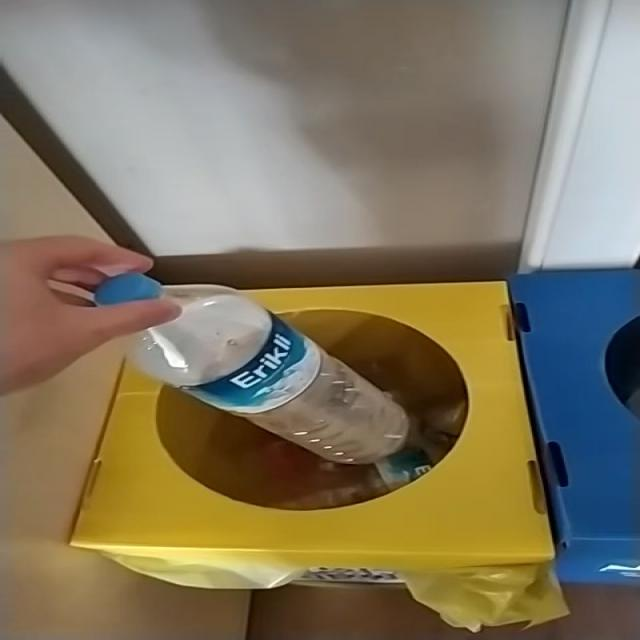plastic: (93, 273, 409, 465)
